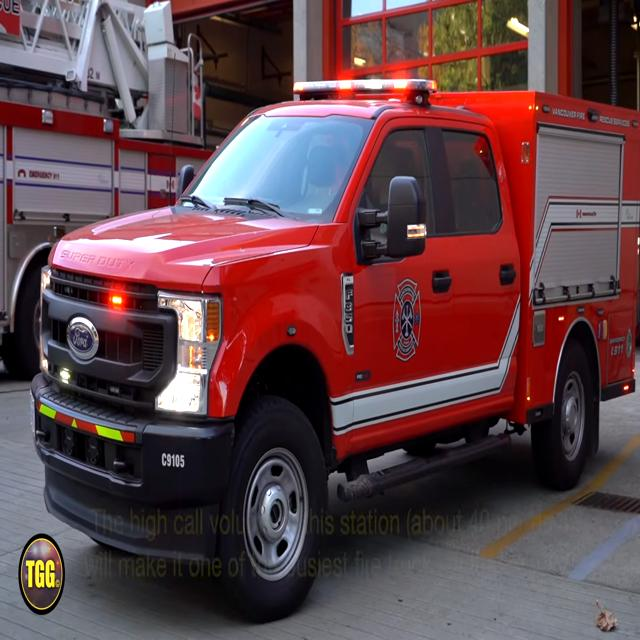emergency-vehicles: (29, 61, 640, 615)
